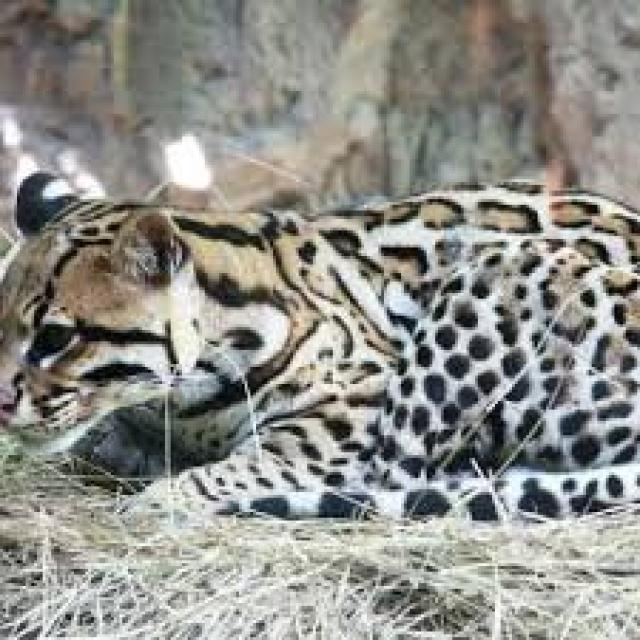Jaguar: (3, 165, 640, 523)
